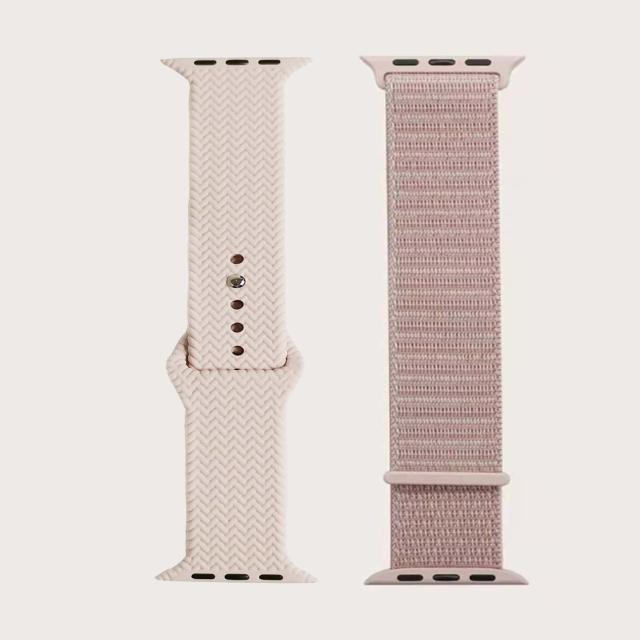bracelet: (324, 0, 605, 609), (105, 6, 363, 626)
